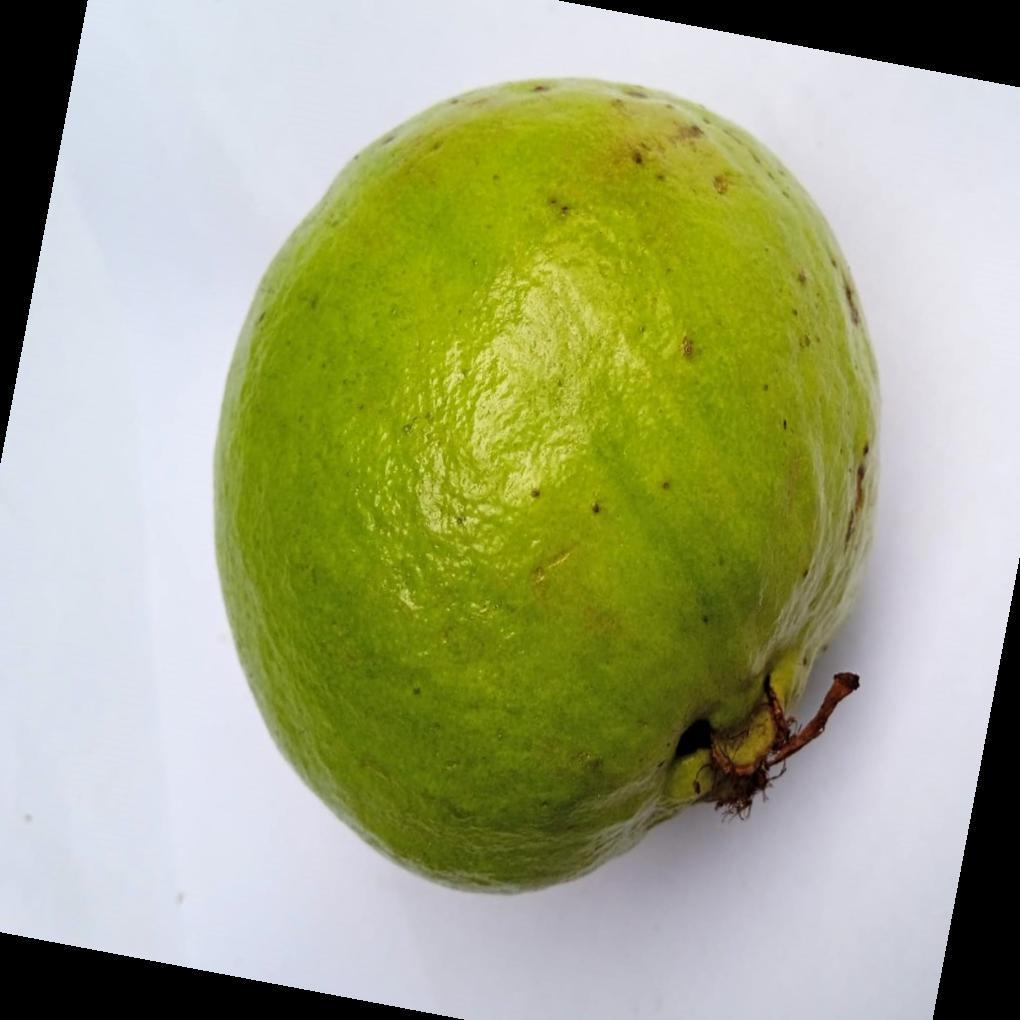FreshGuava: (208, 76, 881, 900)
